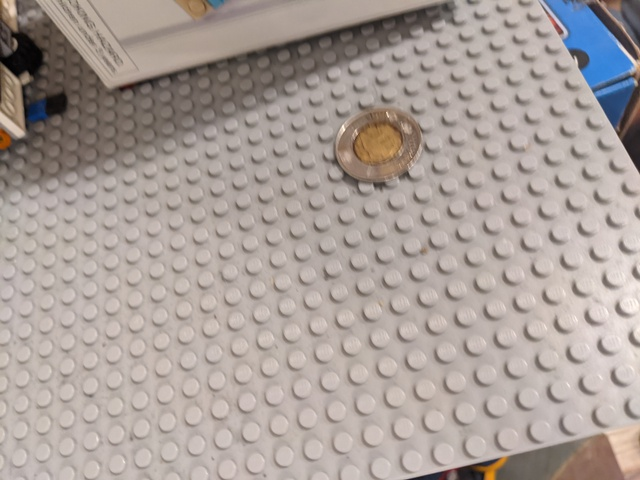twonie: (316, 95, 450, 192)
